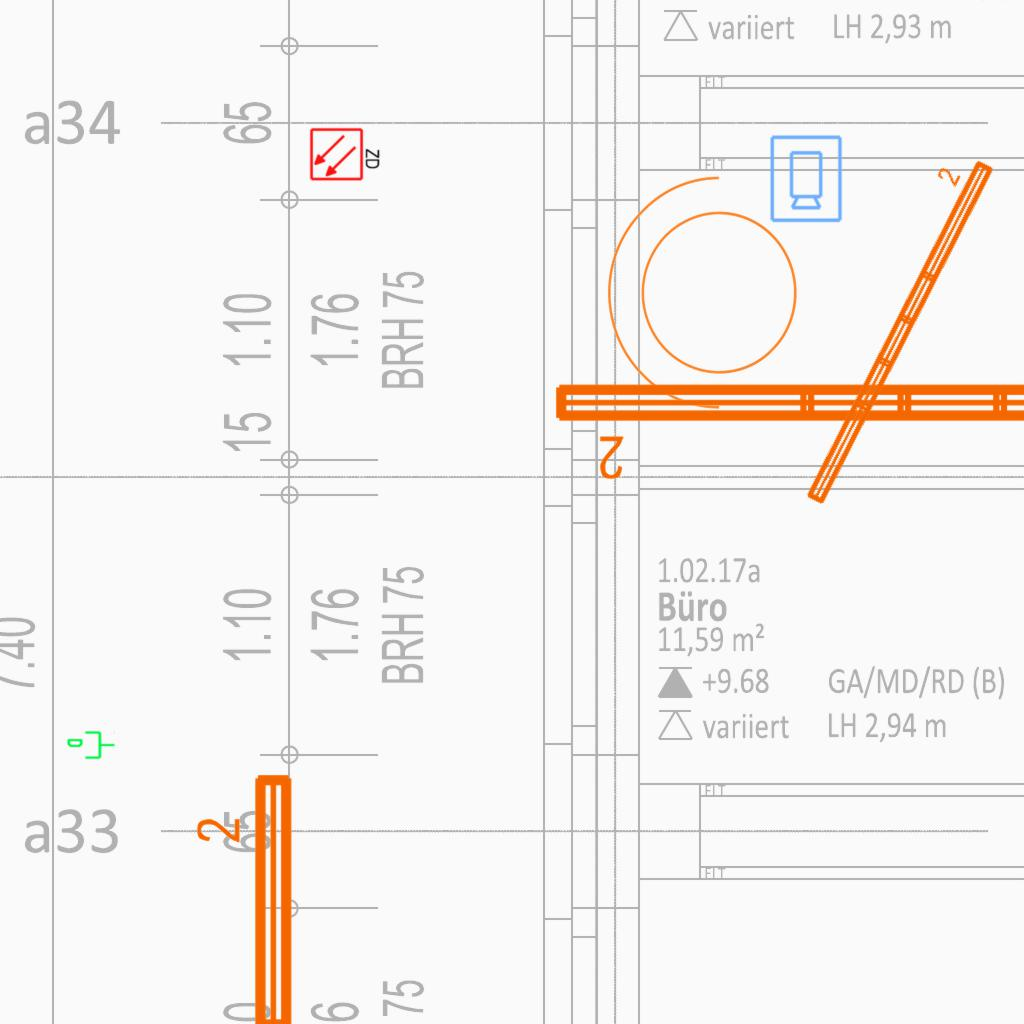Ambulanz_Pendelleuchte_LED: (775, 141, 1002, 513), (547, 372, 1024, 484), (192, 766, 304, 1024)
Datenanschluss_einfach: (66, 729, 116, 763)
KFO_Kamera_mit_Festobjektiv: (767, 133, 844, 224)
Scheinwerfer_fuer_Alarmbeleuchtung: (597, 167, 822, 431)
ZD_Melder_in_Zwischendecke_mit_Revisionsoeffnung_mind_40_x_40_cm: (309, 125, 383, 182)
